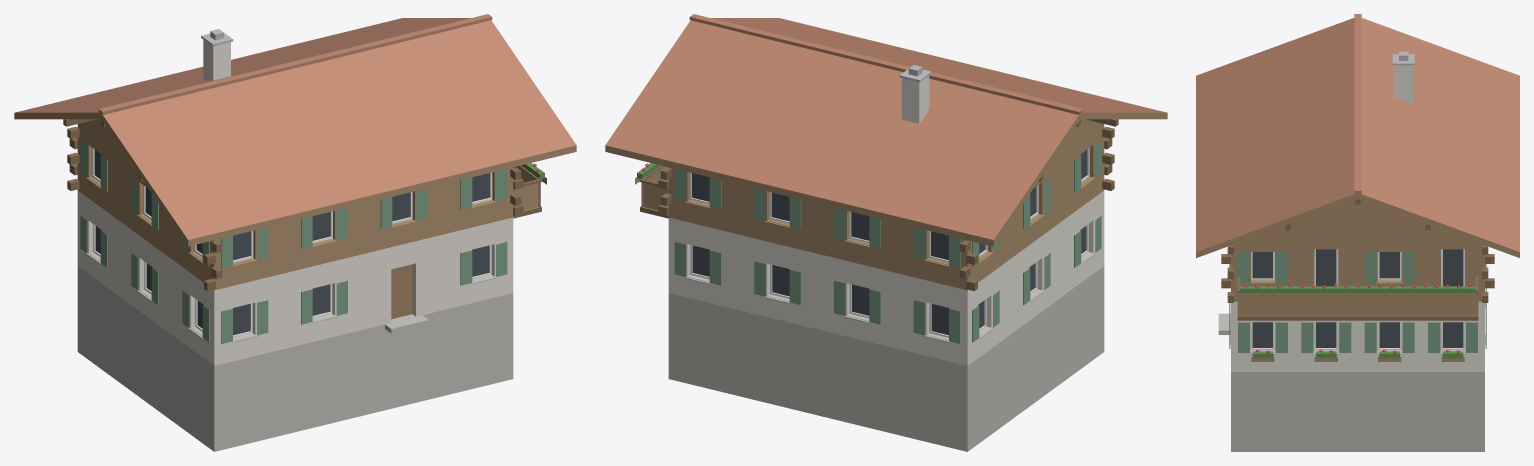
File: chalet_2_m.glb
3 renders of one model, left to right at view 1: azimuth 30°, elevation 25°; view 2: azimuth 150°, elevation 25°; view 3: azimuth 270°, elevation 25°, orthographic. The views are drawn at different scales.
Parts seen in each view (by area): view 1: chalet_2_m; view 2: chalet_2_m; view 3: chalet_2_m.
Part boxes in pixels (left/top/right/bottom): chalet_2_m: left=14, top=14, right=576, bottom=451; chalet_2_m: left=605, top=14, right=1167, bottom=451; chalet_2_m: left=1196, top=14, right=1519, bottom=451.
Size of the model in its own units: 15.64 by 12.62 by 12.1.
